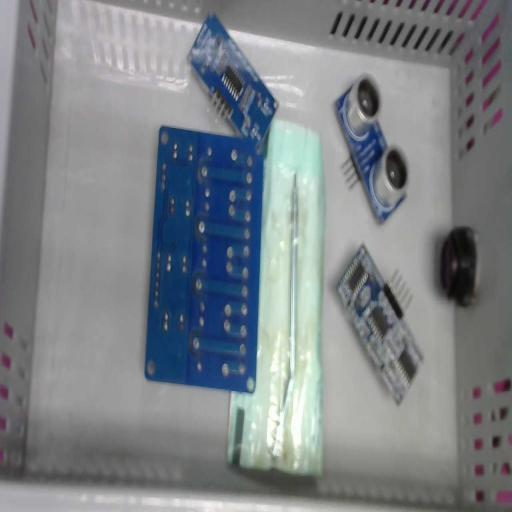relay_module: (144, 125, 264, 394)
triple_syringe: (227, 118, 324, 476)
ultrasonic_hc-sr04: (336, 243, 424, 407), (186, 12, 278, 152), (334, 74, 410, 224)
